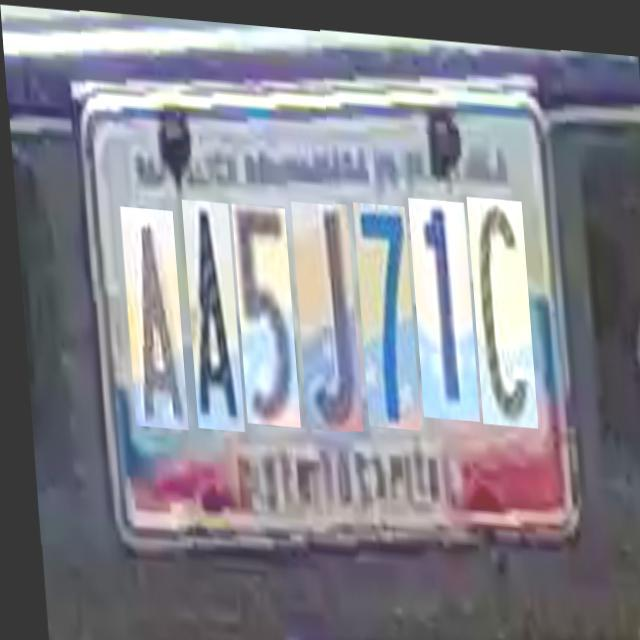1: (406, 190, 474, 414)
5: (228, 198, 294, 421)
7: (350, 195, 415, 424)
A: (117, 202, 182, 426), (178, 195, 238, 427)
C: (464, 188, 532, 419)
J: (288, 194, 357, 426)
